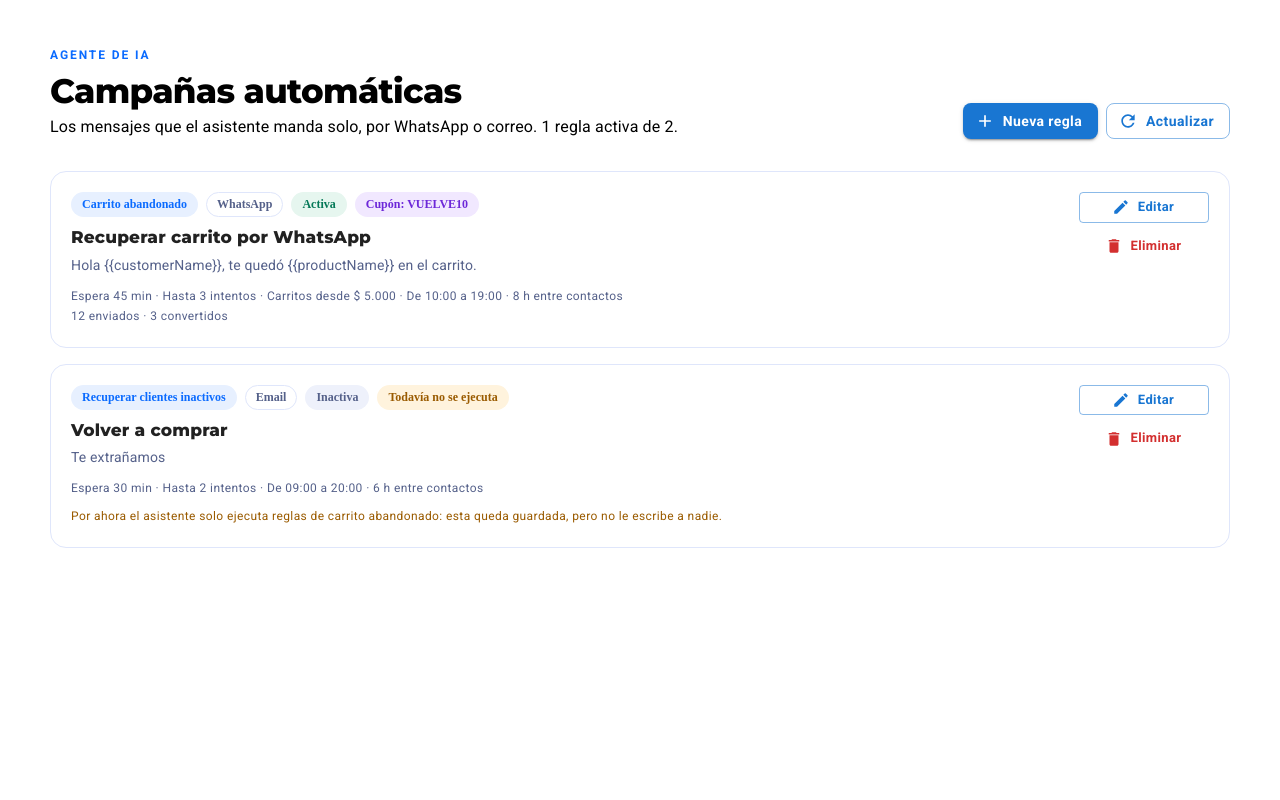
Campañas · crear y editar › crear sin nombre o sin mensaje no manda nada y avisa
The image size is (1280, 800).
Click the button "Nueva regla" at x=1030, y=121, box [963, 102, 1098, 139]
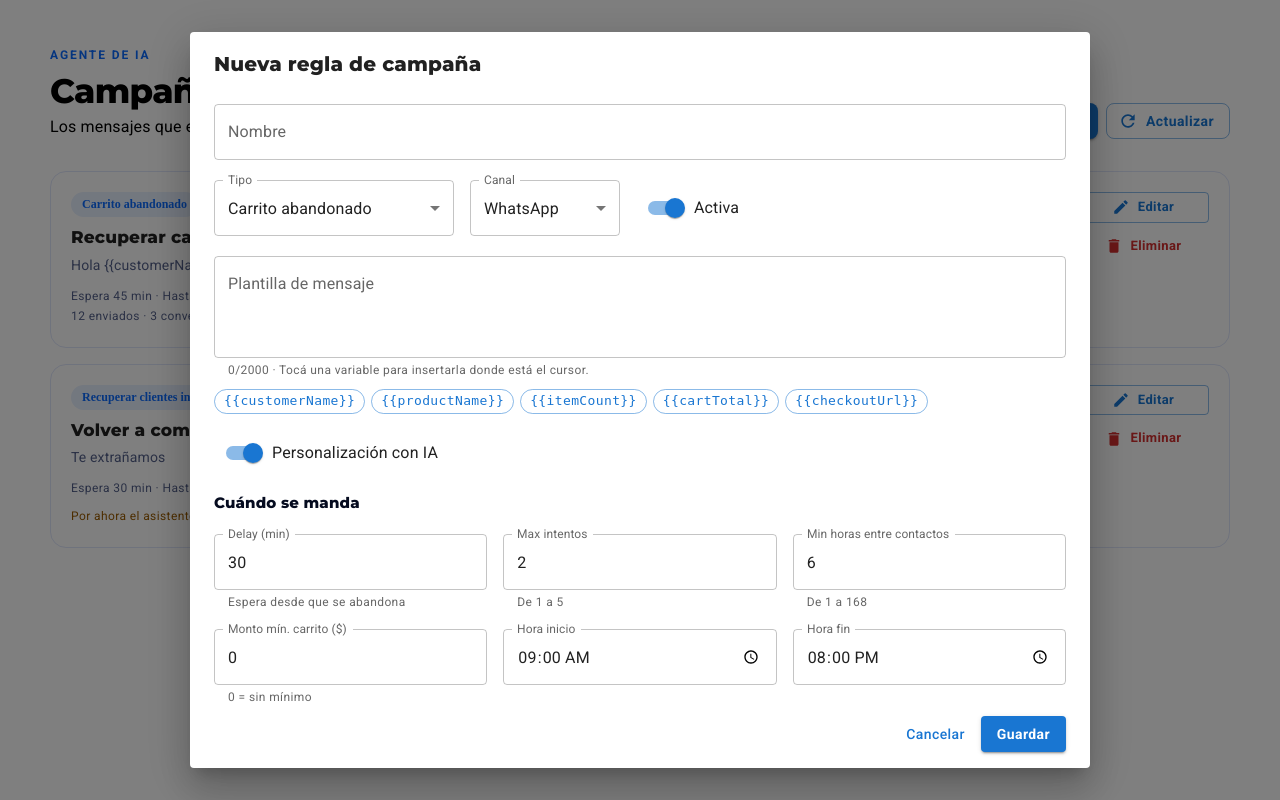
Type "Solo nombre" into the field labelled "Nombre" at x=640, y=132, box [214, 104, 1066, 160]
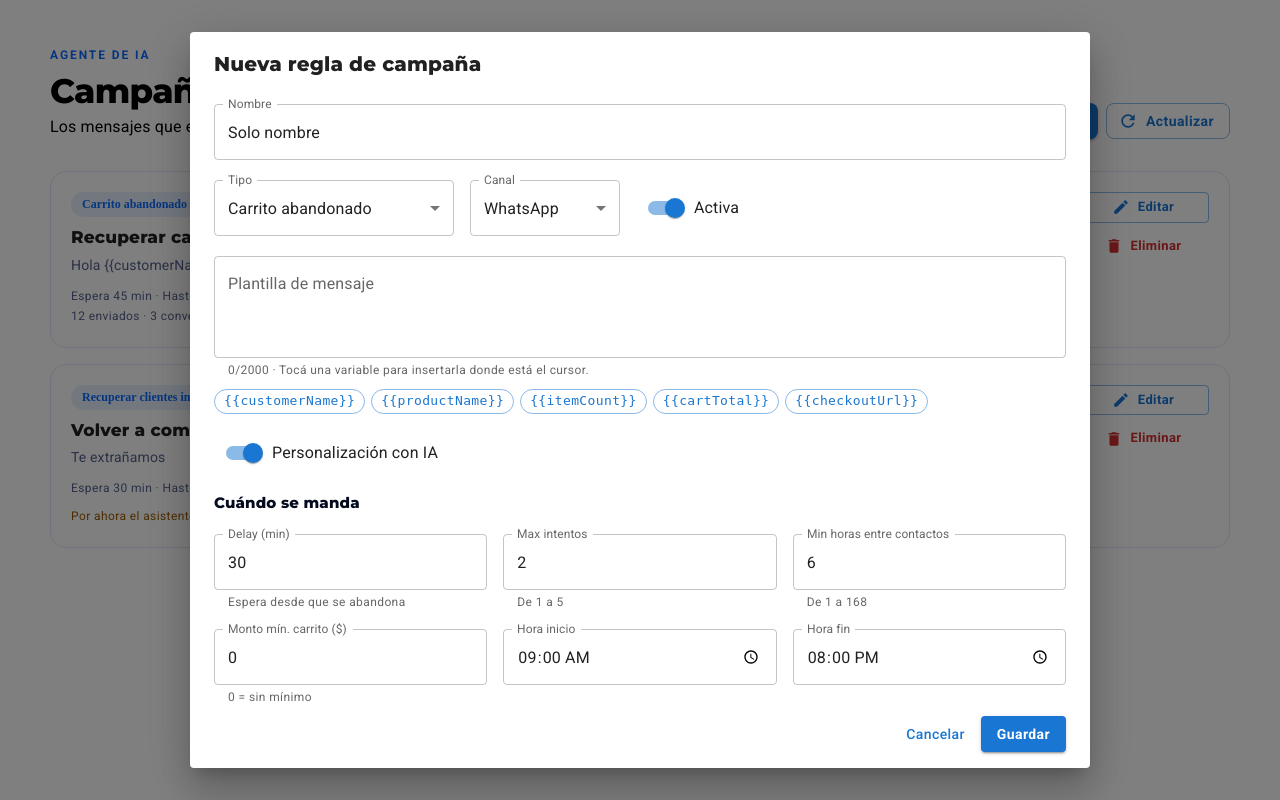
Click the button "Guardar" at x=1023, y=734, box [981, 716, 1066, 752]
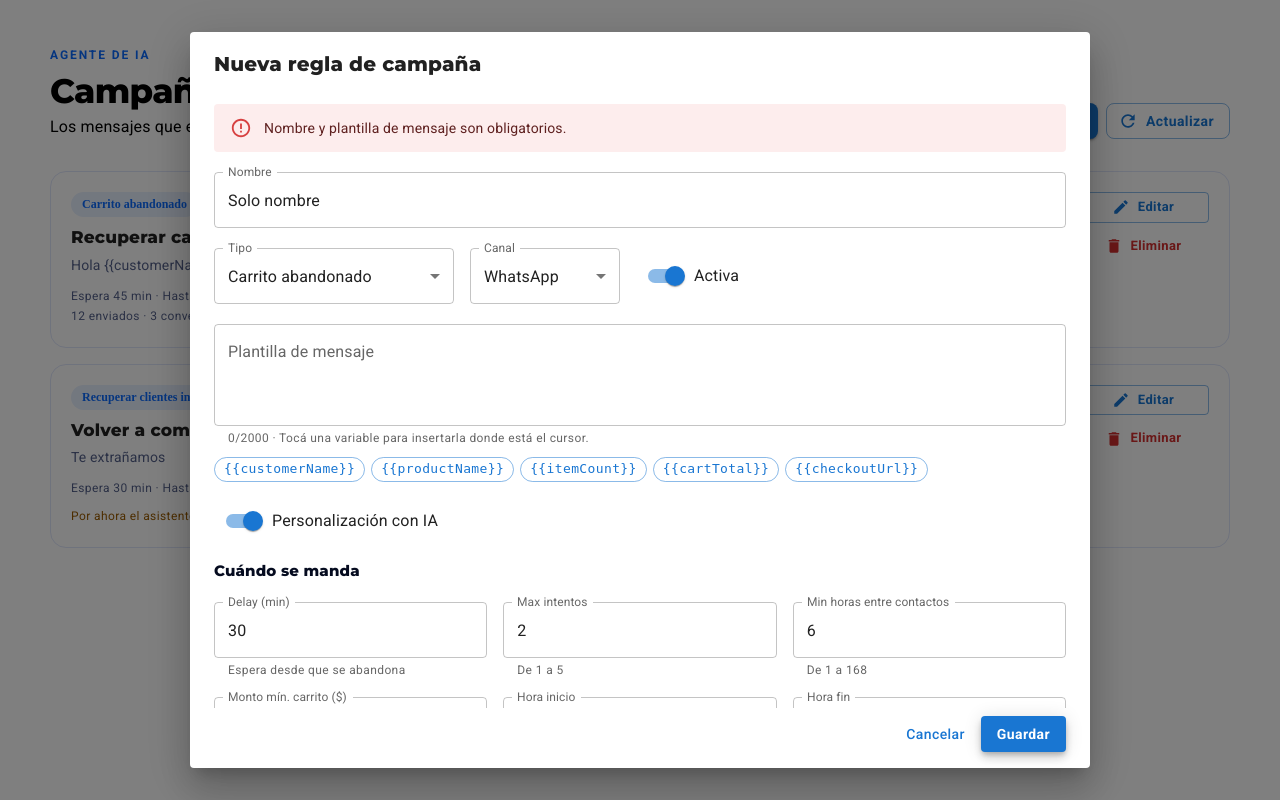
Expected: the text "Nombre y plantilla de mensaje son obligatorios." is shown, [264, 120, 567, 136]
